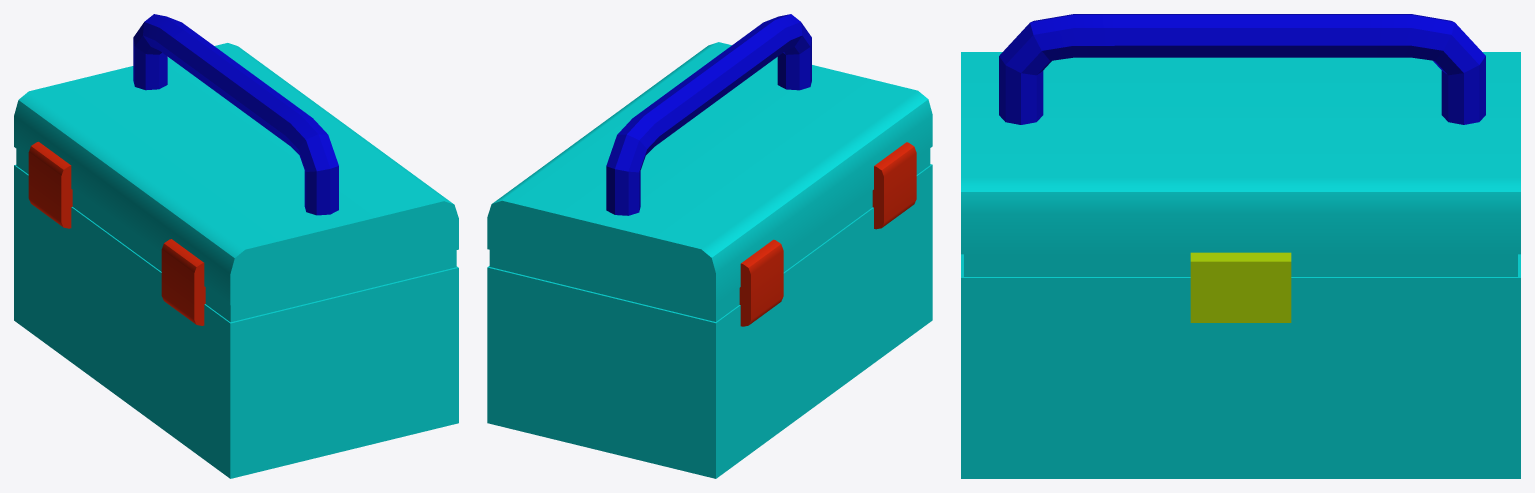
File: Mesh_boiteoutil_001.fbx
3 views of the same model, side by side, from view 1: azimuth 30°, elevation 25°; view 2: azimuth 150°, elevation 25°; view 3: azimuth 270°, elevation 25° (orthographic). The views are drawn at different scales.
Parts seen in each view (by area): view 1: Mesh_boiteoutil_001; view 2: Mesh_boiteoutil_001; view 3: Mesh_boiteoutil_001.
Boxes of the visible parts, box(x1,y1,x2,y2) form: Mesh_boiteoutil_001: box(14, 14, 458, 478); Mesh_boiteoutil_001: box(487, 14, 932, 478); Mesh_boiteoutil_001: box(961, 14, 1520, 478).
Size of the model in its own units: 25.79 by 29.59 by 38.28.
